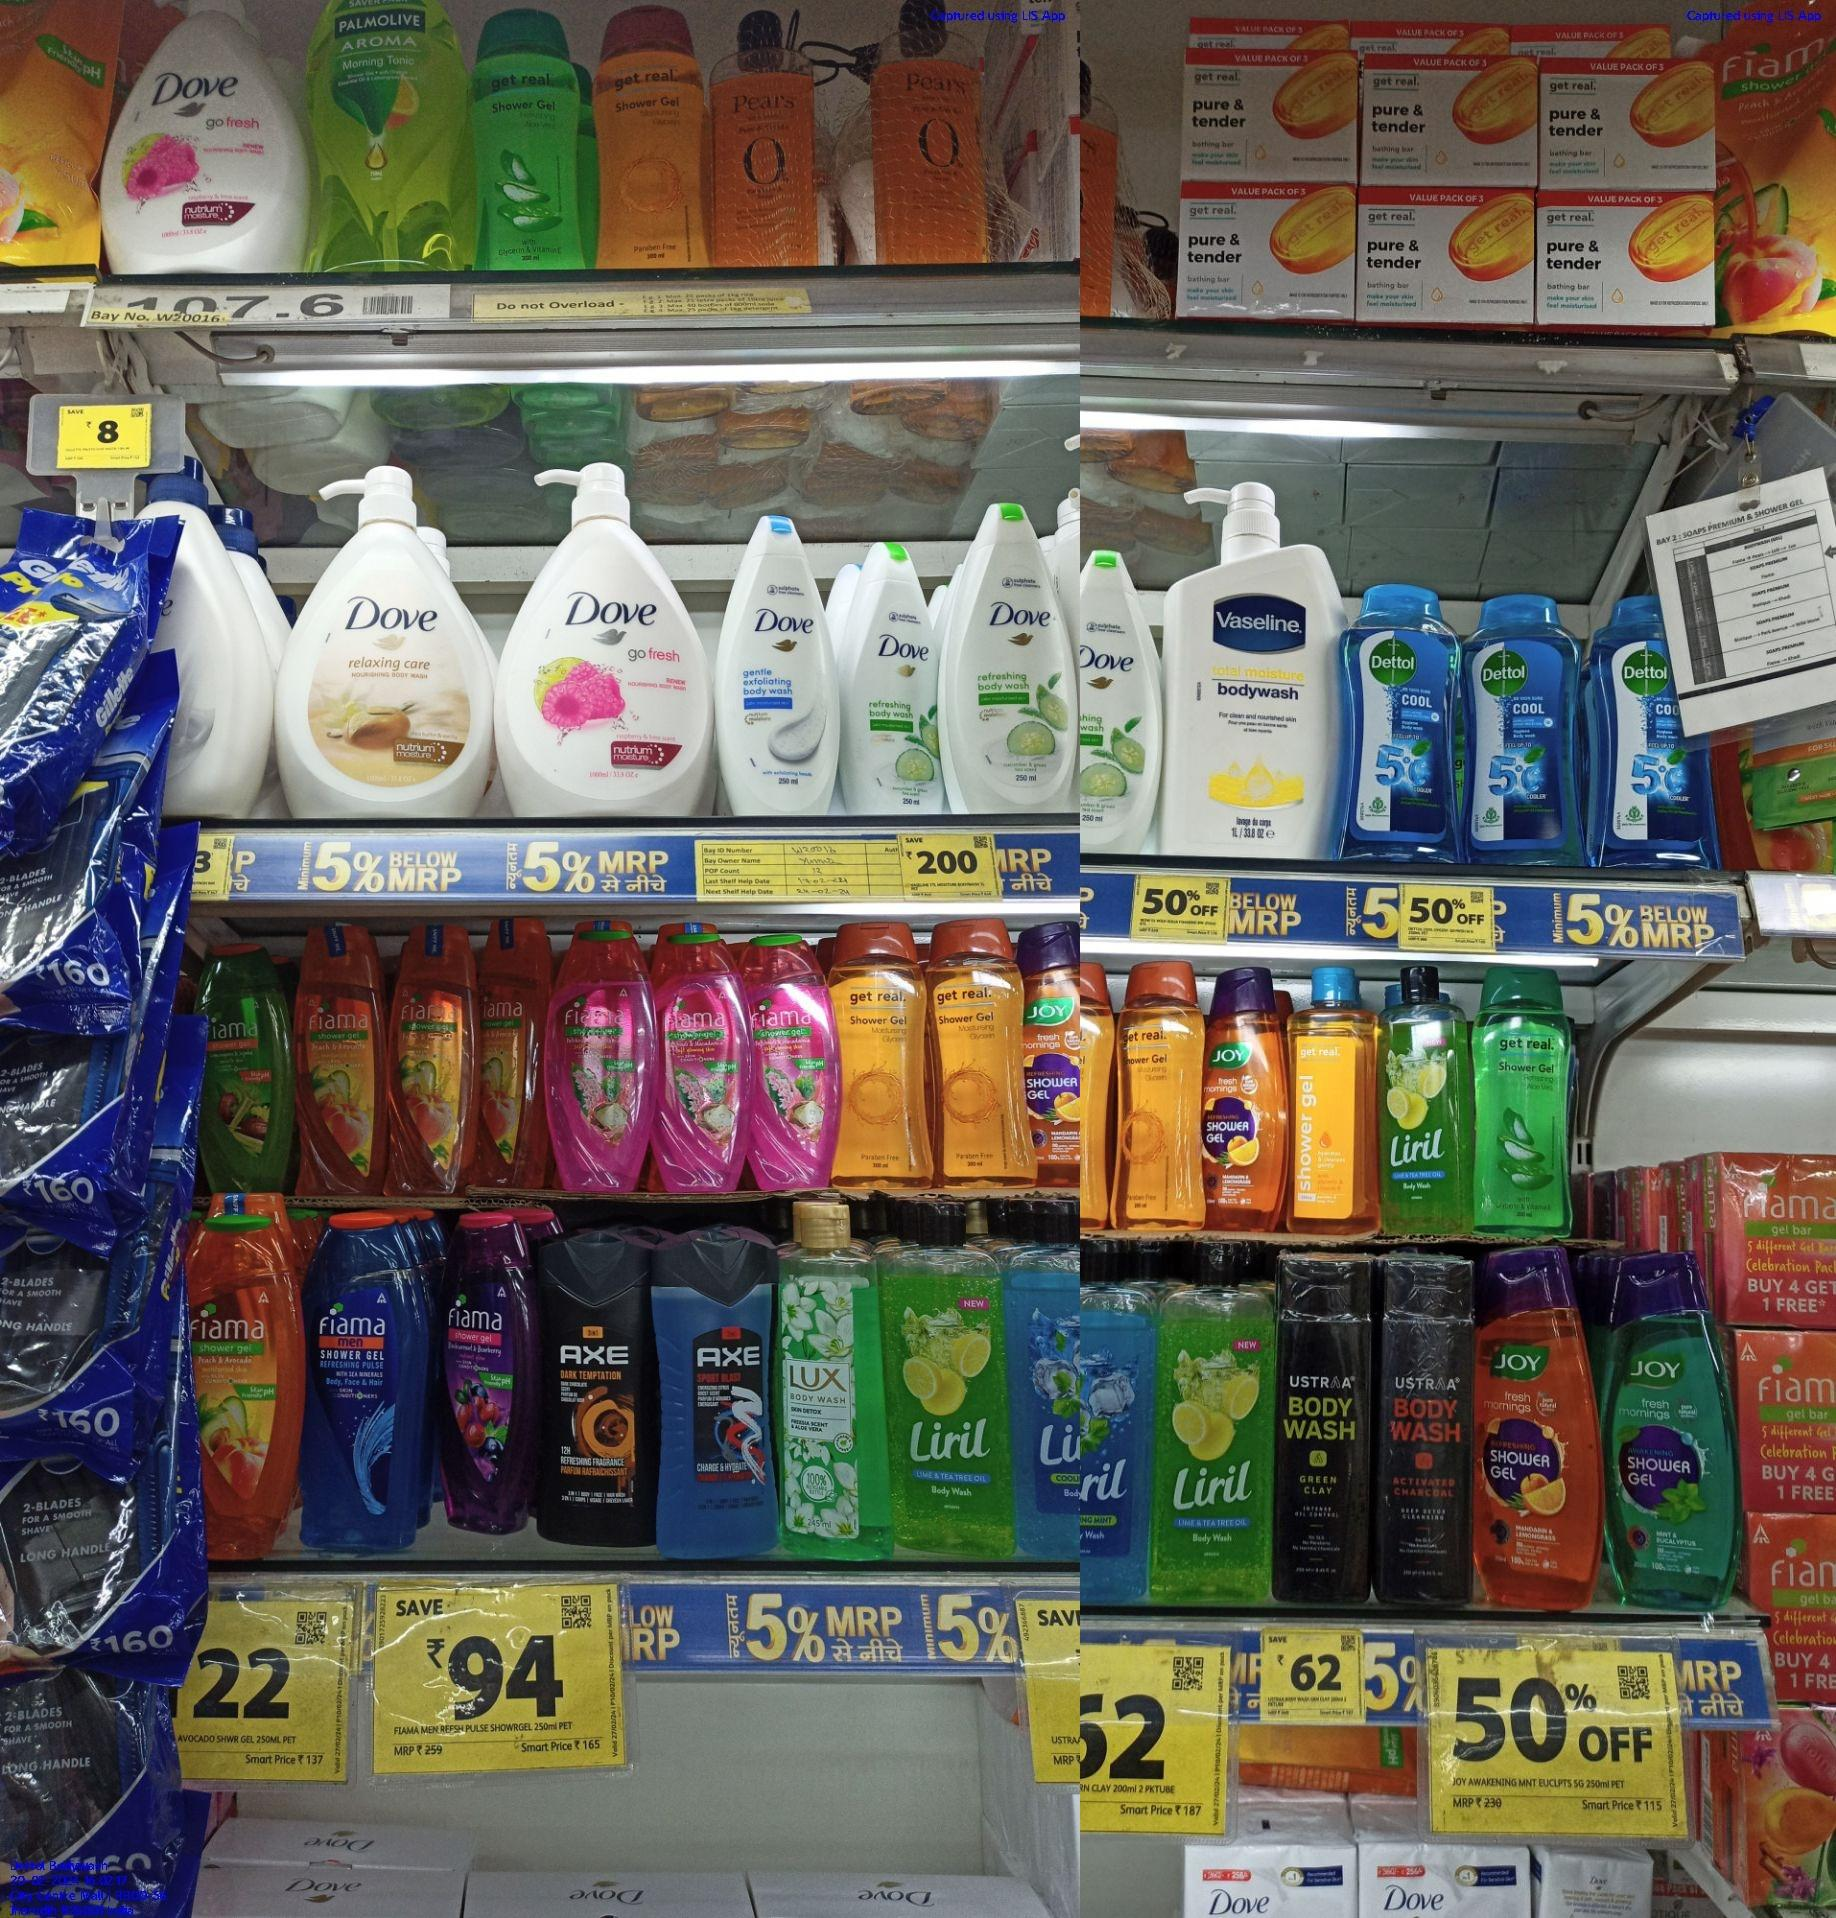Dettol_Bodywash_Cool: (1341, 582, 1464, 861), (1471, 587, 1588, 868)
Dove_Gentle_Exfoliating_Body_Wash_250ML: (718, 512, 838, 819)
Dove_Refreshing_Body_Wash_250ML: (952, 488, 1076, 813), (844, 534, 940, 813), (1084, 533, 1158, 853)
Fiama_Shower_Gel_Lemongrass_and_Jojoba_250ML: (207, 938, 293, 1190)
Fiama_Shower_Gel_Patchouli_and_Macadamia_250ML: (555, 918, 659, 1188), (663, 914, 748, 1192), (754, 926, 832, 1187)
Fiama_Shower_Gel_Peach_and_Avocado_250ML: (204, 1199, 303, 1562), (296, 925, 387, 1195), (392, 918, 478, 1195), (485, 916, 550, 1188)
Get_Real_Shower_Gel_Moisturising_Glycerin_300ML: (593, 7, 706, 269), (927, 916, 1026, 1188), (1115, 957, 1206, 1231), (836, 918, 921, 1183)
Joy_Shower_Gel_Mandarin_and_Lemongrass_250ML: (1476, 1259, 1601, 1611), (1213, 957, 1286, 1233)
Joy_Shower_Gel_Mint_and_Eucalyptus_250ML: (1610, 1245, 1735, 1608)
Liril_Lime_and_Tea_Tree_Oil_Body_Wash_250ML: (1154, 1243, 1273, 1605), (1375, 957, 1473, 1233)
Lux_Body_Wash_Skin_Detox_Freesia_Scent_and_Alove_Vera_245ML: (778, 1199, 894, 1558)
